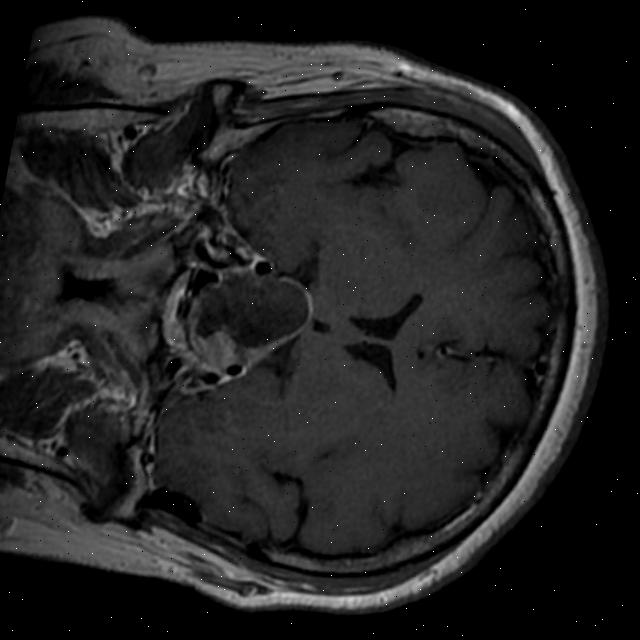Pituitary: (184, 259, 320, 360)
